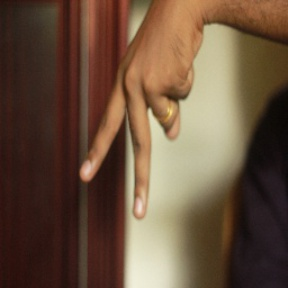Y: (77, 42, 200, 222)
